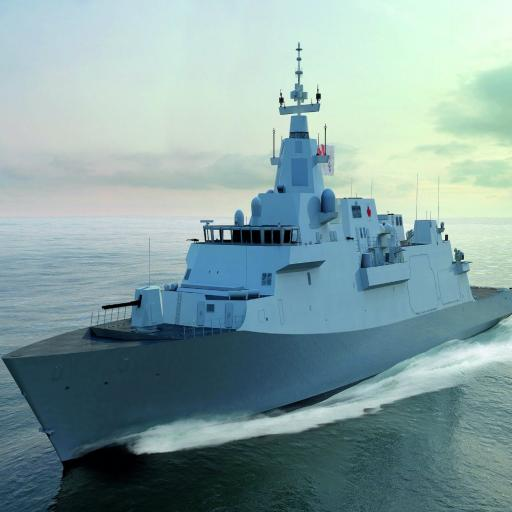Fragata: (1, 31, 358, 478)
